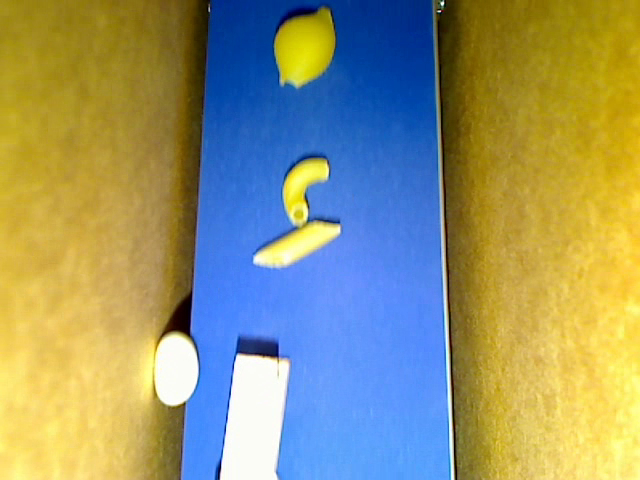elbow: (282, 156, 330, 227)
penne: (250, 218, 341, 269)
shell: (273, 6, 336, 90)
